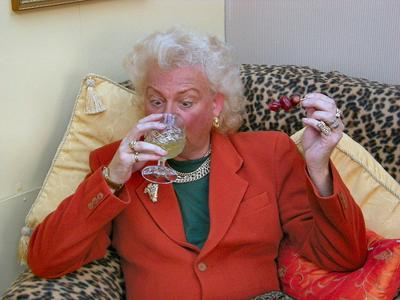person: (27, 26, 369, 300)
